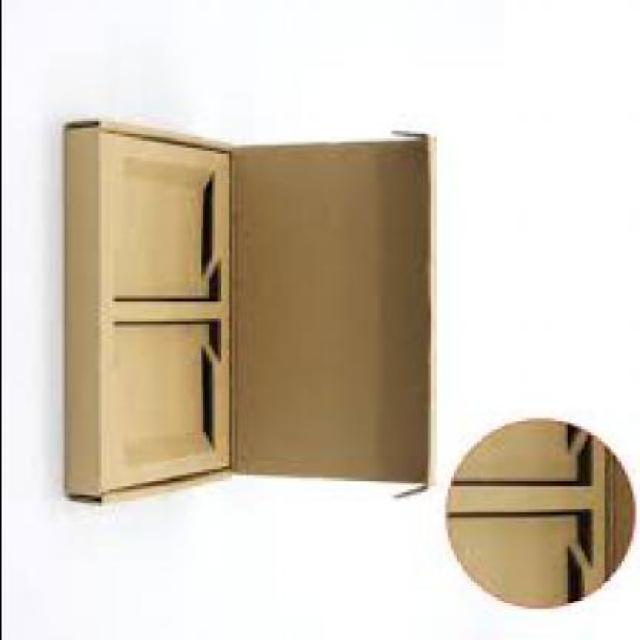CARDBOARD: (62, 116, 441, 504)
